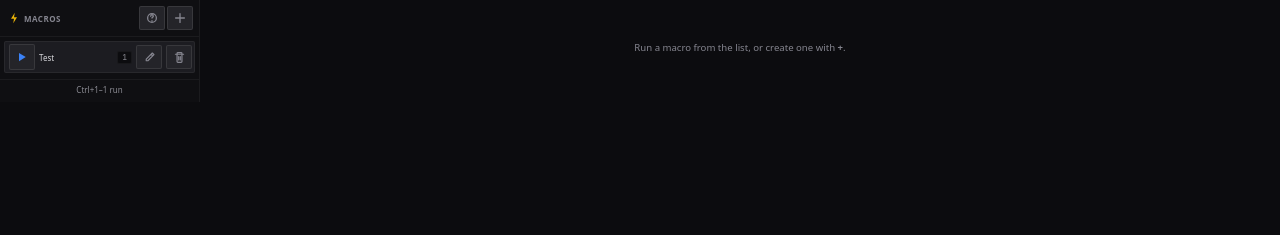
MacroPanel › shows step summary in collapsed state
This screenshot has width=1280, height=235.
What coordinates should you click on to do the following:
click the button with class "edit-btn"
I would click on:
 (149, 57)
Its box is [136, 45, 162, 69].
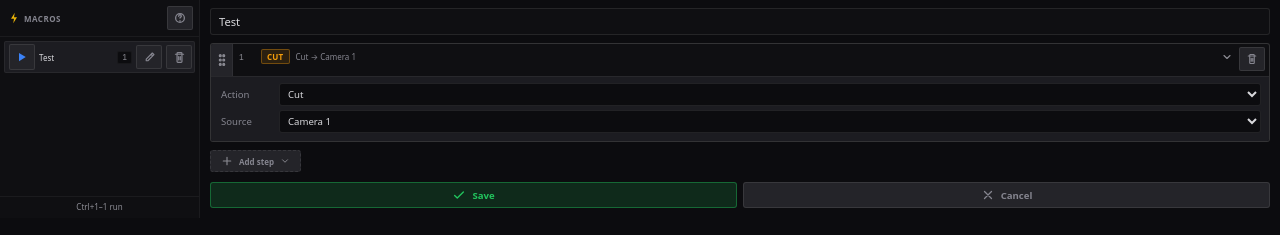
Now the button with class "step-header" shows "Cut", box [233, 44, 1239, 69]
